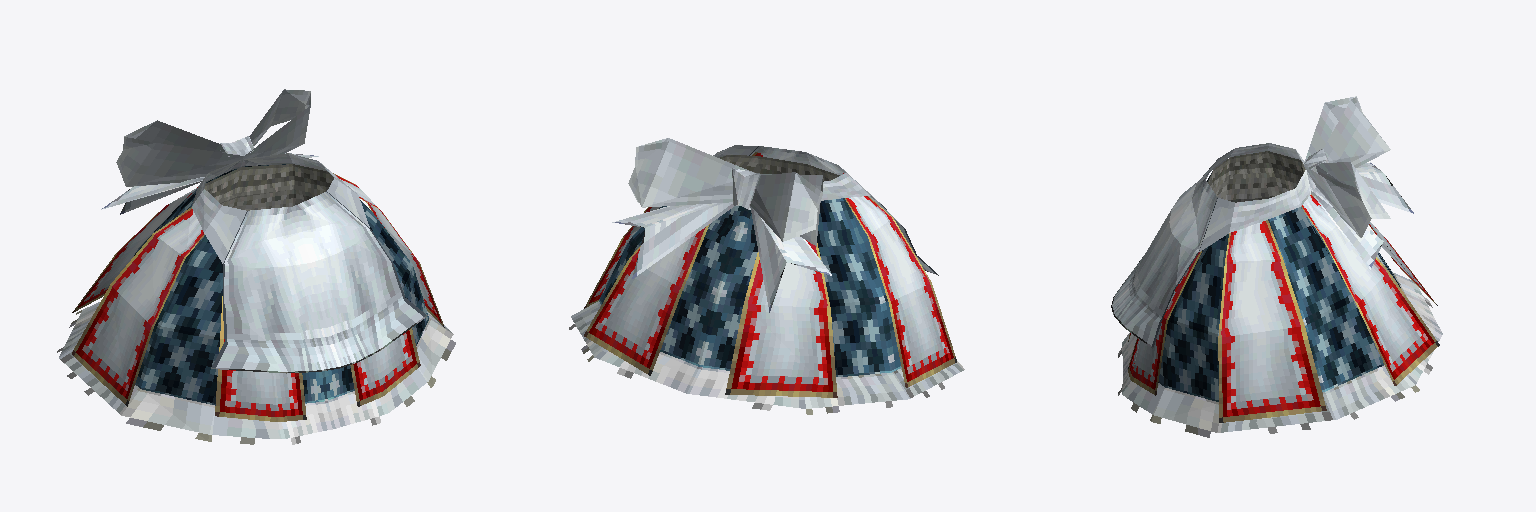
The picture shows the model from 3 angles: view 1: azimuth 30°, elevation 25°; view 2: azimuth 150°, elevation 25°; view 3: azimuth 270°, elevation 25°; orthographic projection.
Visible parts, largest first — view 1: mesh00; view 2: mesh00; view 3: mesh00.
Part boxes in pixels (x1,y1,x2,y2): mesh00: (57,89,455,444); mesh00: (569,138,964,414); mesh00: (1111,96,1442,437).
Bounding box in the file's own units: 95.06 × 65.16 × 79.63.
Materials: 1 (1 with a texture image).